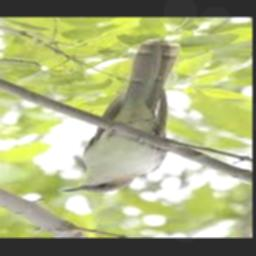Cuckoo: (62, 41, 181, 193)
